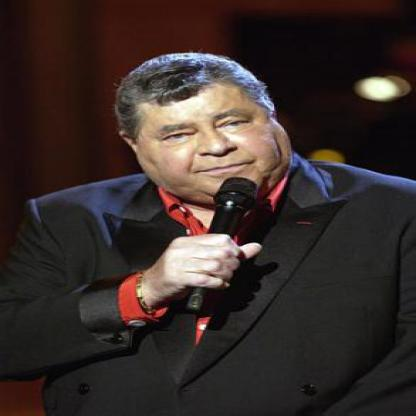face: (131, 58, 283, 206)
